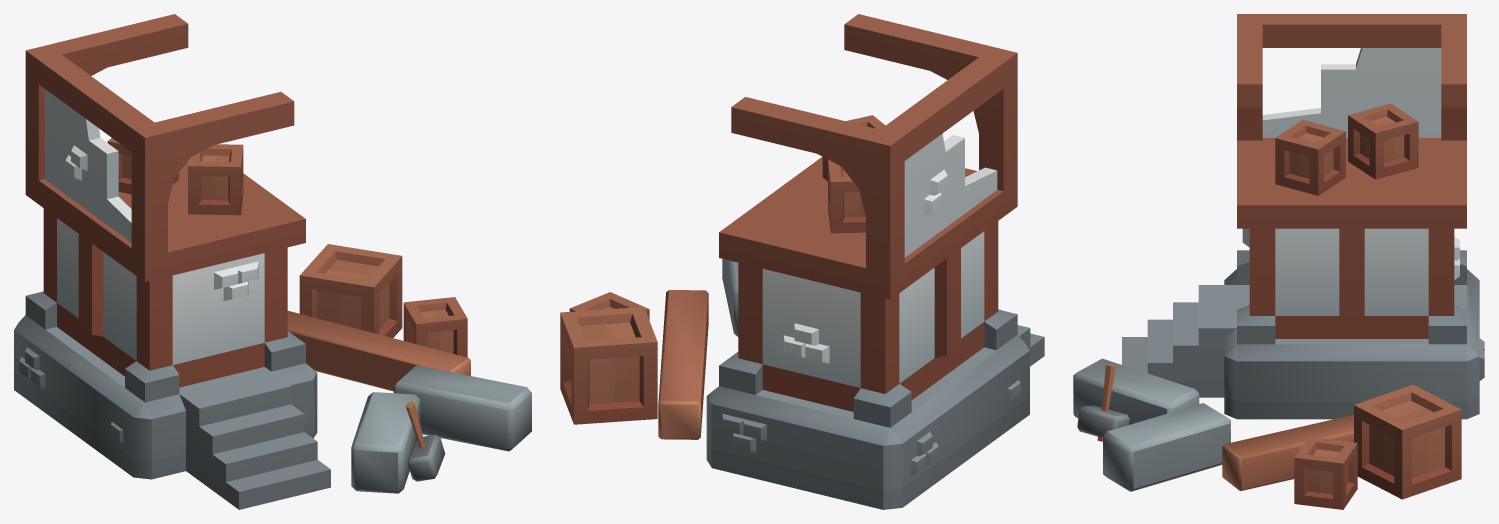
File: kaykit-medieval-hexagon-pack-building-stage-c.glb
3 views of the same model, side by side, from view 1: azimuth 30°, elevation 25°; view 2: azimuth 150°, elevation 25°; view 3: azimuth 270°, elevation 25° (orthographic). The views are drawn at different scales.
Parts seen in each view (by area): view 1: building_stage_C; view 2: building_stage_C; view 3: building_stage_C.
Boxes of the visible parts, <box> form: building_stage_C: <box>14,14,531,509</box>; building_stage_C: <box>560,14,1044,509</box>; building_stage_C: <box>1073,14,1484,509</box>.
Bounding box in the file's own units: 1.16 × 0.986 × 1.13.
Materials: 1 (1 with a texture image).
